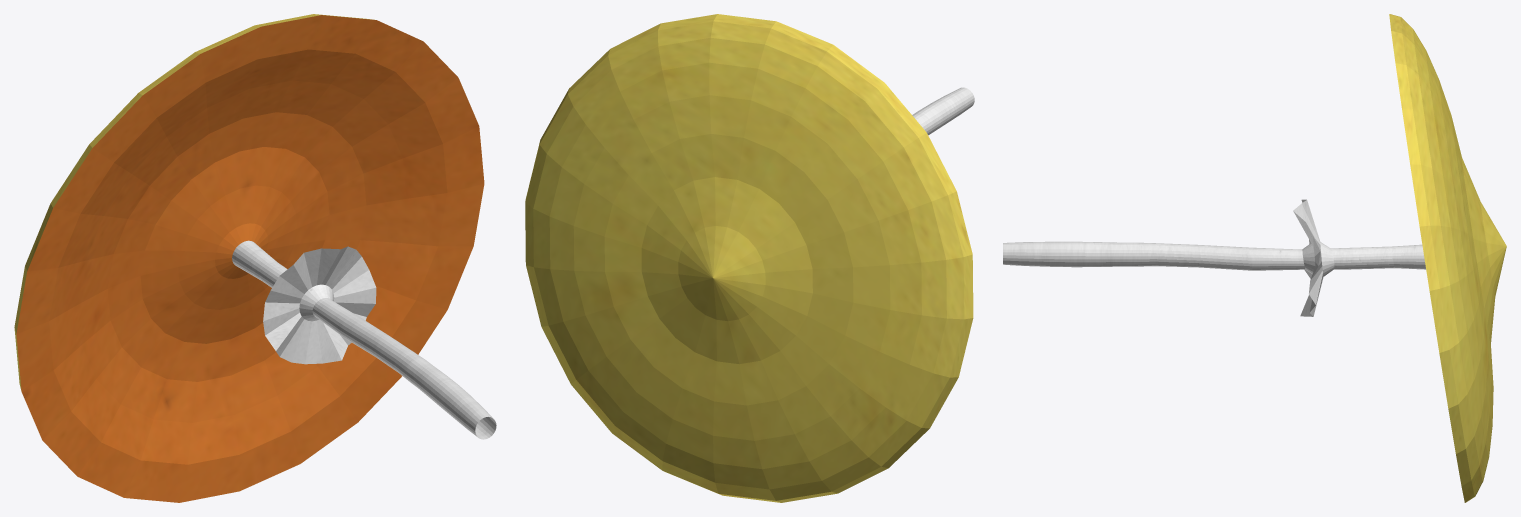
Rendered from Mushroom_Large_03 (1).fbx.
3 views of the same model, side by side, from view 1: azimuth 30°, elevation 25°; view 2: azimuth 150°, elevation 25°; view 3: azimuth 270°, elevation 25° (orthographic). The views are drawn at different scales.
Visible parts, largest first — view 1: mushroom_Large_03; view 2: mushroom_Large_03; view 3: mushroom_Large_03.
Boxes of the visible parts, x1,y1,x2,y2 form: mushroom_Large_03: [14, 14, 496, 502]; mushroom_Large_03: [525, 14, 974, 502]; mushroom_Large_03: [1003, 14, 1506, 502].
Bounding box in the file's own units: 57.74 × 58.28 × 58.97.
